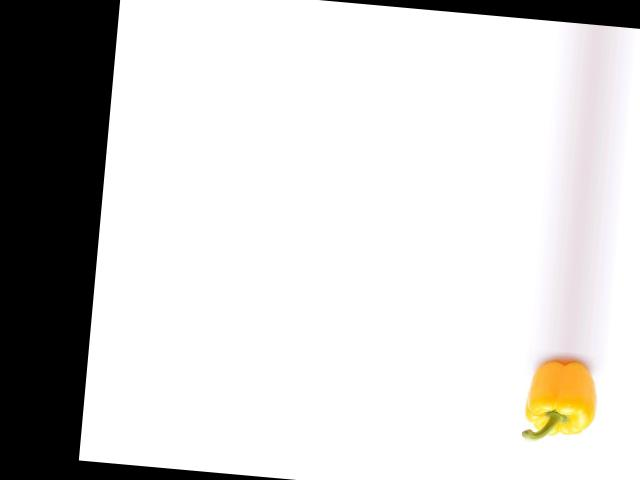bell_pepper: (519, 355, 606, 443)
